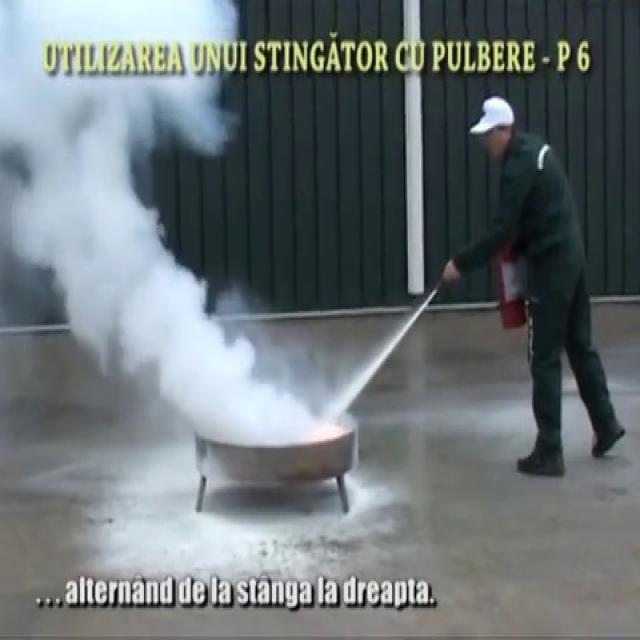Smoke: (0, 0, 290, 453)
